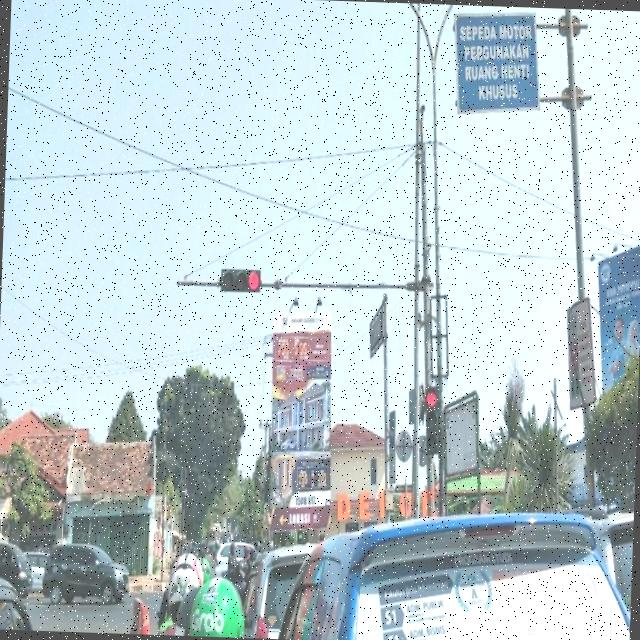Czerwone swiatlo: (423, 386, 442, 456), (218, 267, 263, 289)
